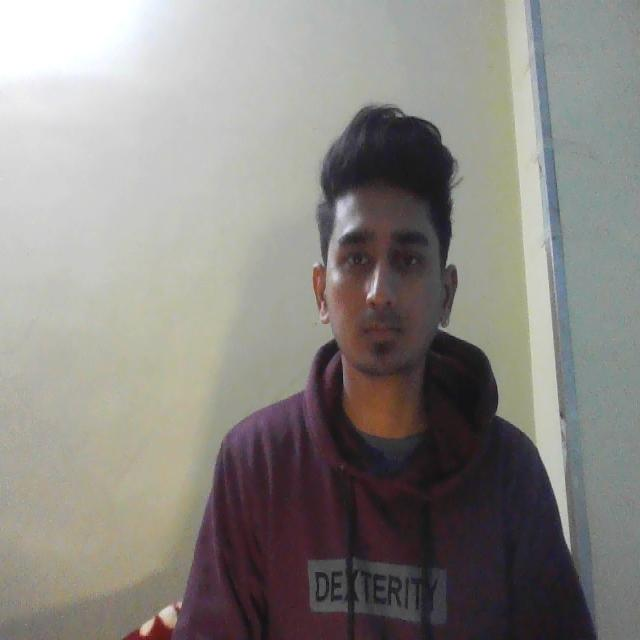real: (318, 128, 463, 401)
